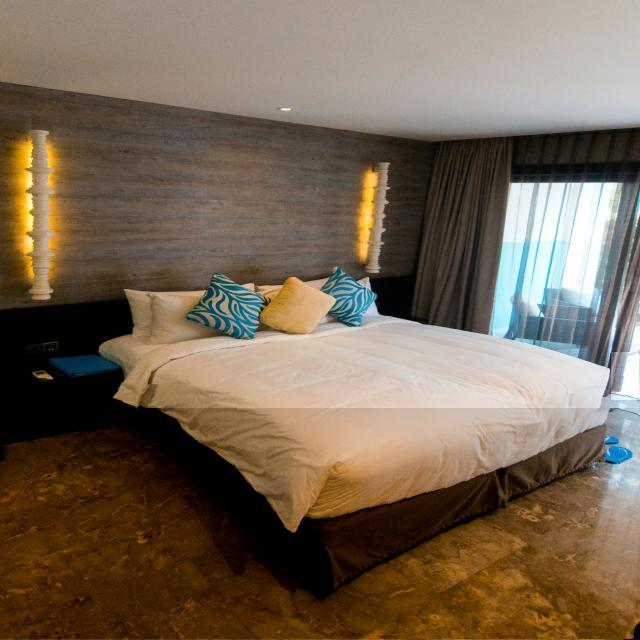floor: (0, 408, 640, 640), (611, 353, 639, 400)
